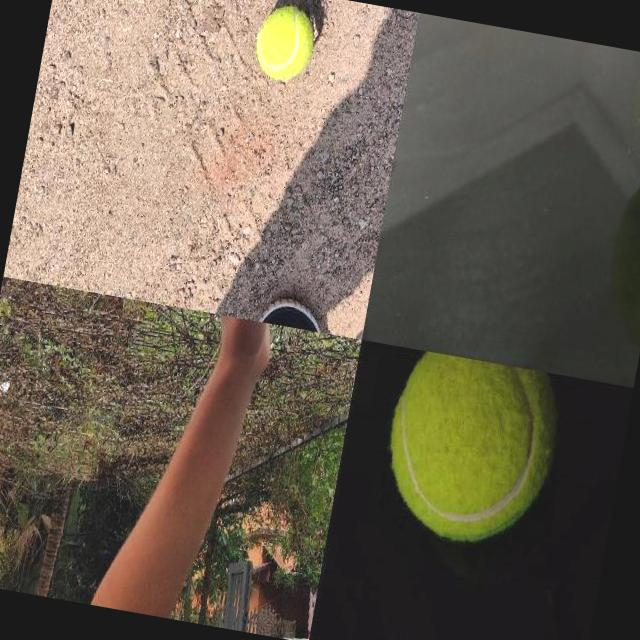Tennis Ball: (373, 347, 568, 555), (251, 1, 318, 82)
